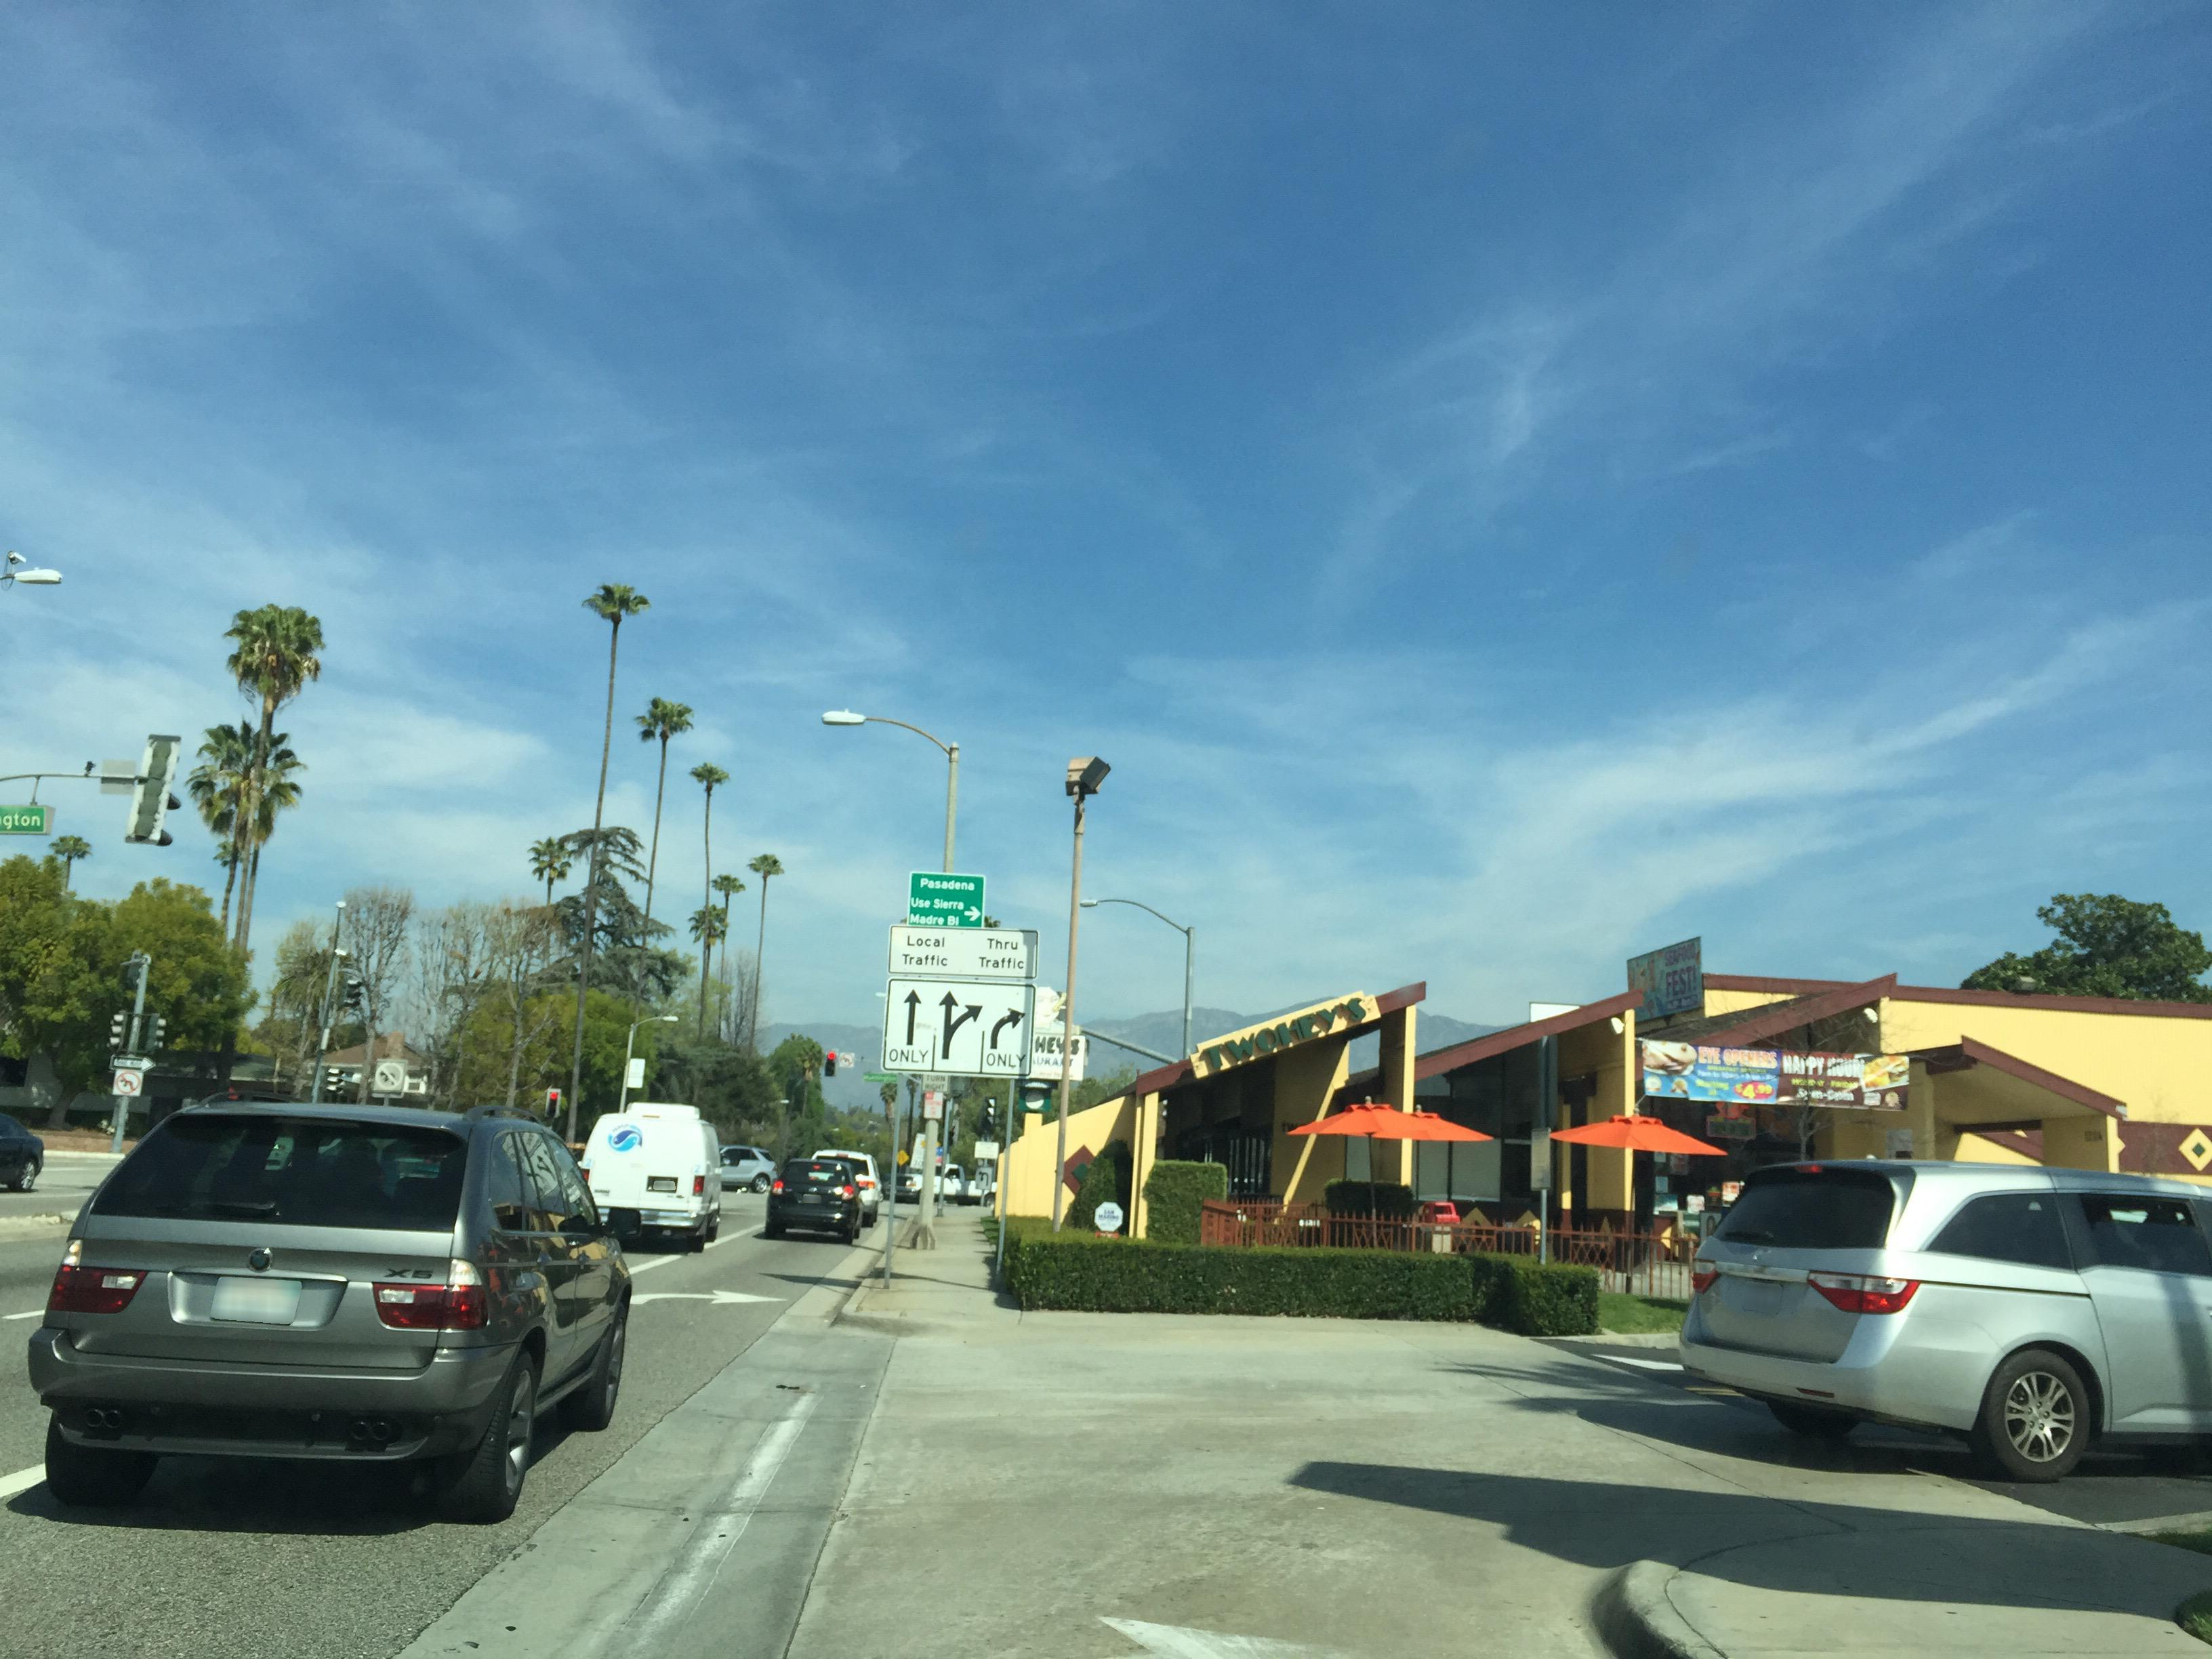vinyl banner: (1630, 1018, 1937, 1122)
